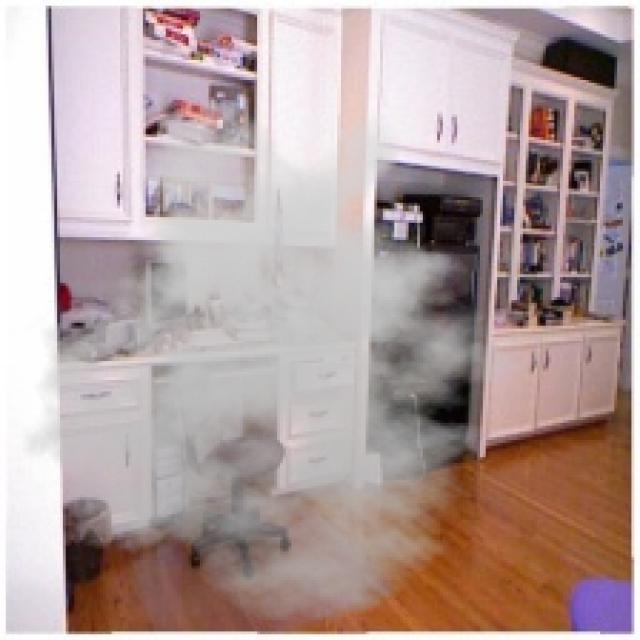Smoke: (8, 94, 546, 623)
